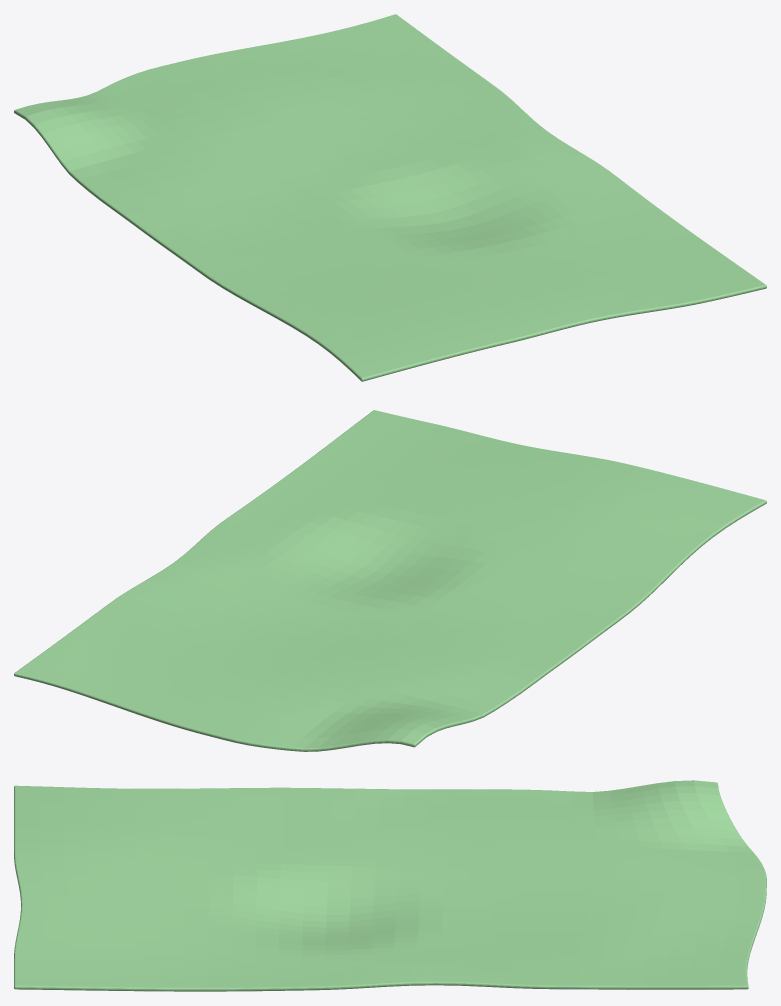
Rendered from Letter.fbx.
The picture shows the model from 3 angles, top to bottom: view 1: azimuth 30°, elevation 25°; view 2: azimuth 150°, elevation 25°; view 3: azimuth 270°, elevation 25°; orthographic projection. The views are drawn at different scales.
Parts seen in each view (by area): view 1: Cube; view 2: Cube; view 3: Cube.
Part boxes in pixels (left/top/right/bottom): Cube: left=14, top=14, right=766, bottom=381; Cube: left=14, top=410, right=766, bottom=751; Cube: left=14, top=780, right=766, bottom=991.
Size of the model in its own units: 5.36 by 0.3893 by 8.6.
